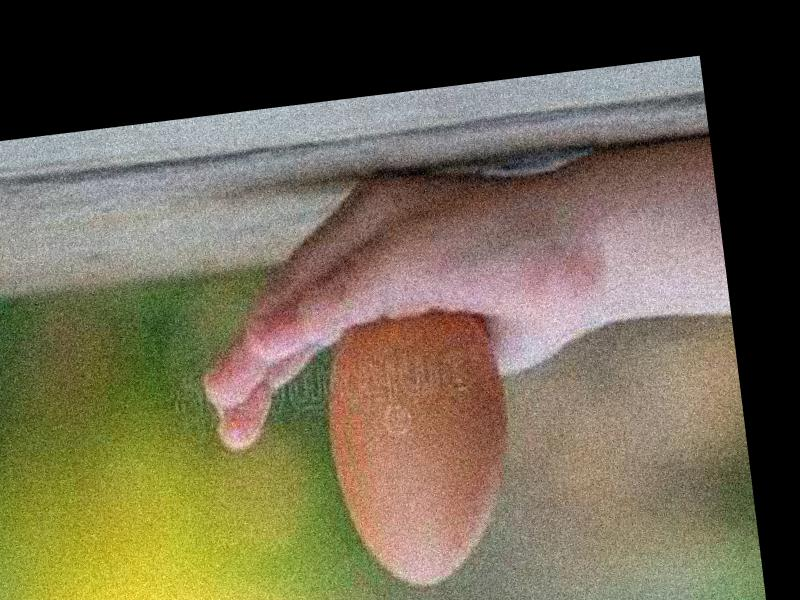Eggs: (319, 303, 529, 594)
